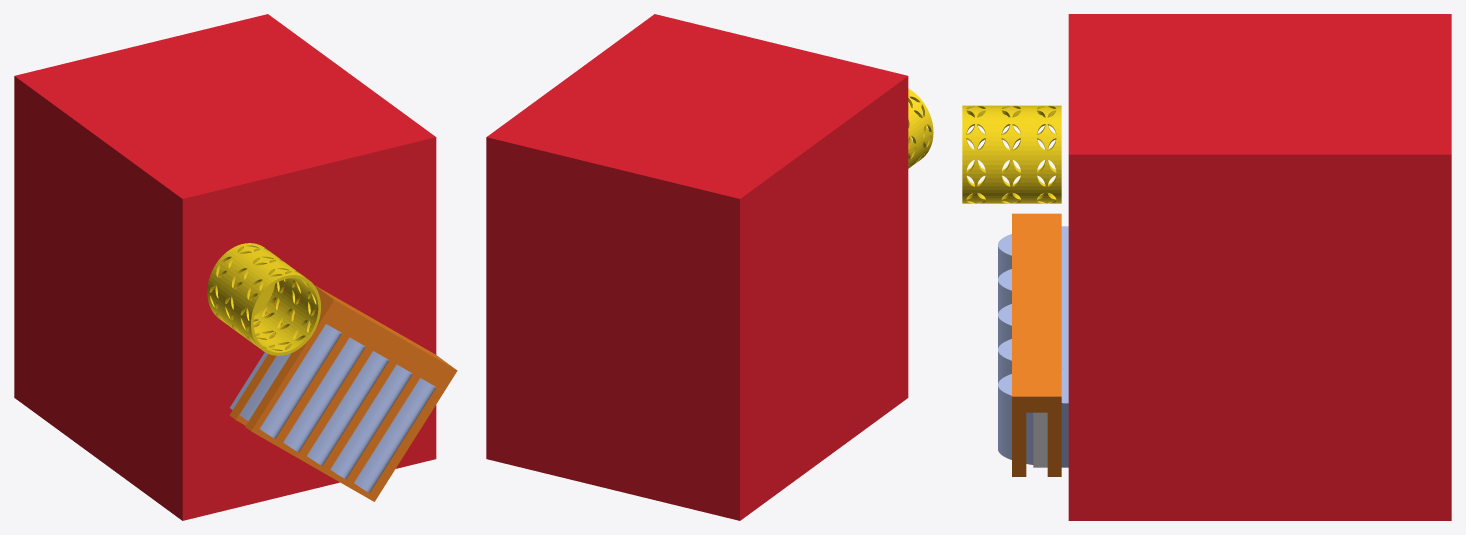
File: tinker.obj
The picture shows the model from 3 angles, left to right: view 1: azimuth 30°, elevation 25°; view 2: azimuth 150°, elevation 25°; view 3: azimuth 270°, elevation 25°; orthographic projection. The views are drawn at different scales.
Visible parts, largest first — view 1: group_0_15277357, group_0_11452141, group_0_16089887, group_0_16768282; view 2: group_0_15277357, group_0_16768282; view 3: group_0_15277357, group_0_16089887, group_0_16768282, group_0_11452141, group_0_16448250.
Part boxes in pixels (bbox=[...]): group_0_15277357: bbox=[14, 14, 436, 520]; group_0_11452141: bbox=[230, 312, 436, 492]; group_0_16089887: bbox=[229, 285, 457, 501]; group_0_16768282: bbox=[207, 243, 320, 355]; group_0_15277357: bbox=[486, 14, 908, 520]; group_0_16768282: bbox=[908, 88, 933, 168]; group_0_15277357: bbox=[1068, 14, 1451, 520]; group_0_16089887: bbox=[1012, 213, 1061, 476]; group_0_16768282: bbox=[962, 105, 1061, 203]; group_0_11452141: bbox=[998, 226, 1068, 467]; group_0_16448250: bbox=[1033, 412, 1047, 467].
Bounding box in the file's own units: 47 × 60 × 69.
